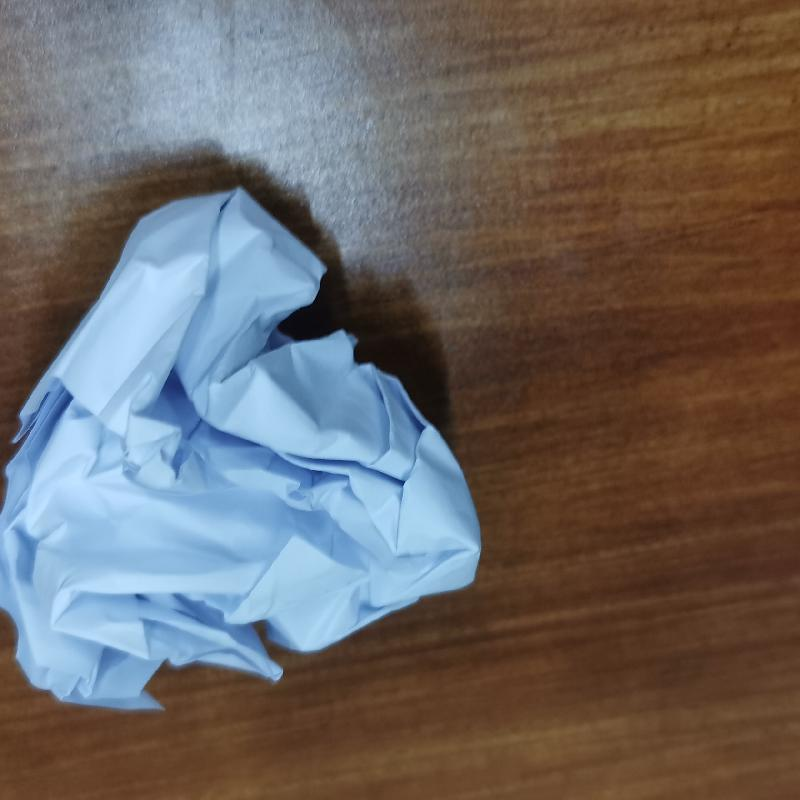spitball: (0, 185, 489, 713)
